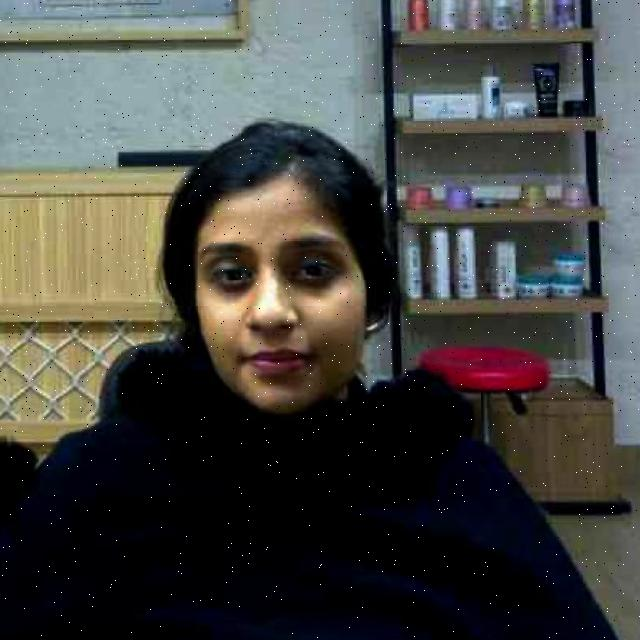puffy_eyes: (285, 278, 335, 295), (213, 281, 253, 300)
